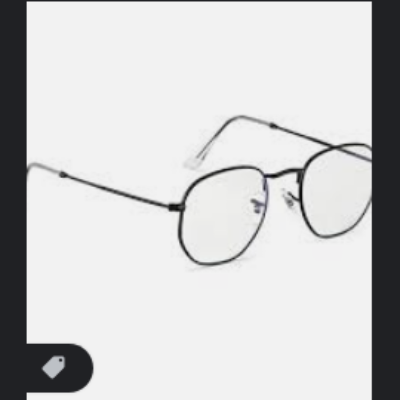glasses: (25, 111, 373, 276)
